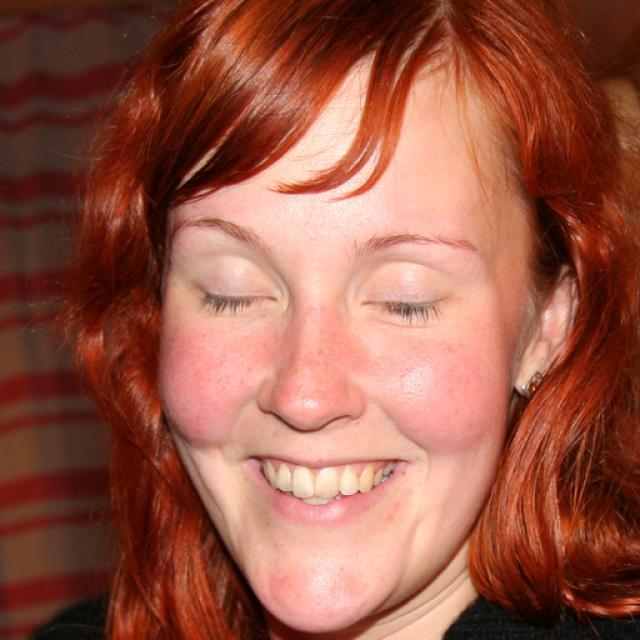happy: (154, 69, 512, 632)
